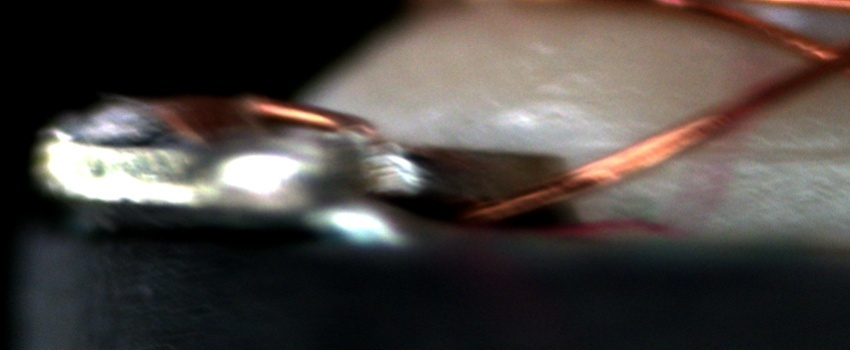CL: (781, 28, 847, 87)
DL: (573, 112, 847, 181)
TE: (236, 97, 376, 140)
